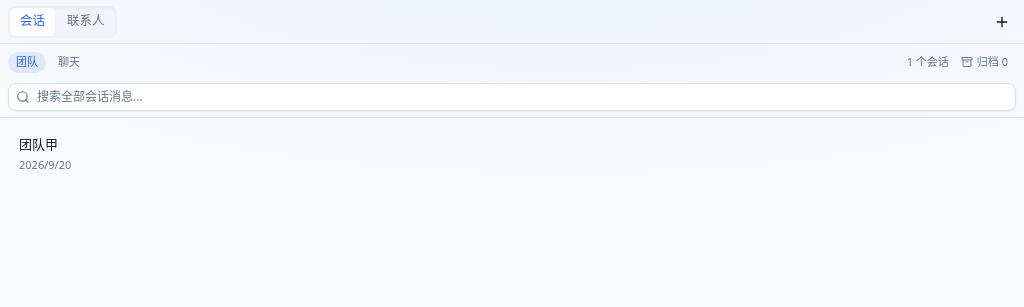
Scenario: M79-F：SessionList 筛选 chip › 默认选中第一个「团队」；点「聊天」过滤；再点同类取消恢复全部
Expected: the text "团队甲" is shown, [19, 135, 58, 153]
Expected: the text "私聊乙" is not shown
Click the button "聊天".
click(69, 62)  # box [50, 52, 88, 72]
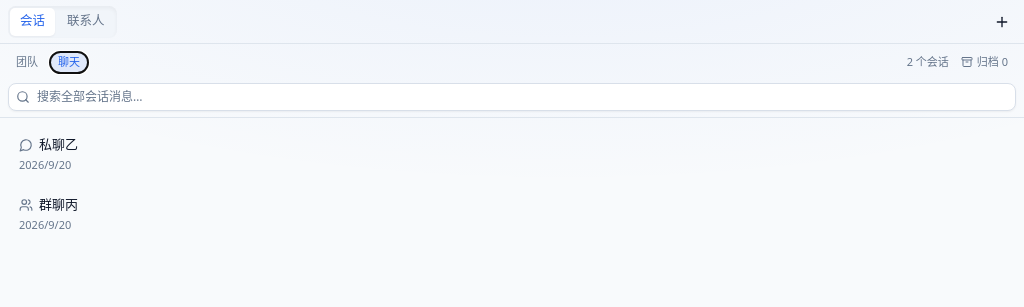
Expected: the text "团队甲" is gone
Expected: the text "私聊乙" is shown, [39, 135, 78, 153]
Expected: the text "群聊丙" is shown, [39, 195, 78, 213]
# 再点「聊天」取消筛选 → 恢复全部
Click the button "聊天".
click(69, 62)  # box [50, 52, 88, 72]
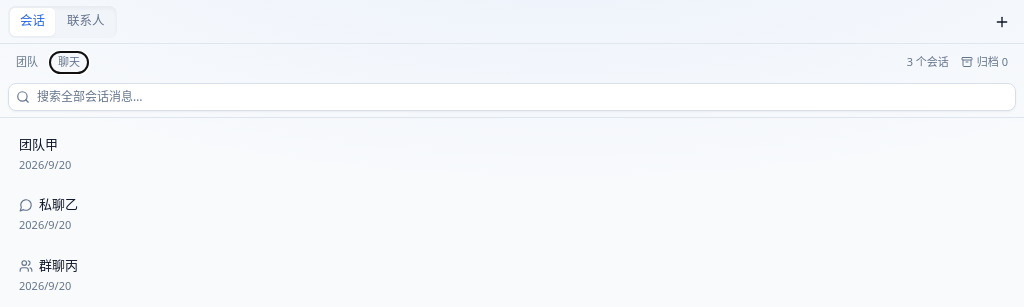
Expected: the text "私聊乙" is shown, [39, 195, 78, 213]
Expected: the text "群聊丙" is shown, [39, 256, 78, 274]
Expected: the text "团队甲" is shown, [19, 135, 58, 153]
# 点「团队」→ 仅团队（三态切换闭环）
Click the button "团队".
click(27, 62)  # box [8, 52, 46, 72]
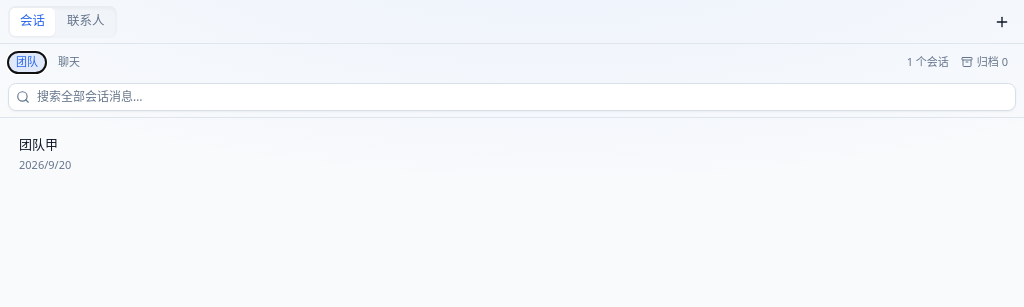
Expected: the text "团队甲" is shown, [19, 135, 58, 153]
Expected: the text "私聊乙" is gone
Expected: the text "群聊丙" is gone
